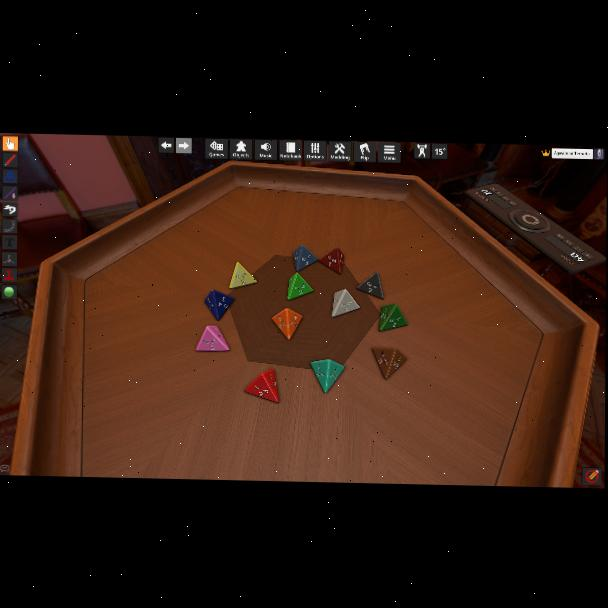d4: (310, 360, 344, 395), (245, 370, 279, 404), (371, 346, 404, 380), (272, 308, 301, 341), (205, 290, 233, 322), (196, 326, 229, 353), (332, 289, 360, 319), (379, 303, 407, 332), (229, 261, 257, 290), (287, 271, 313, 302), (356, 270, 382, 300), (318, 246, 343, 275), (292, 245, 316, 273)
